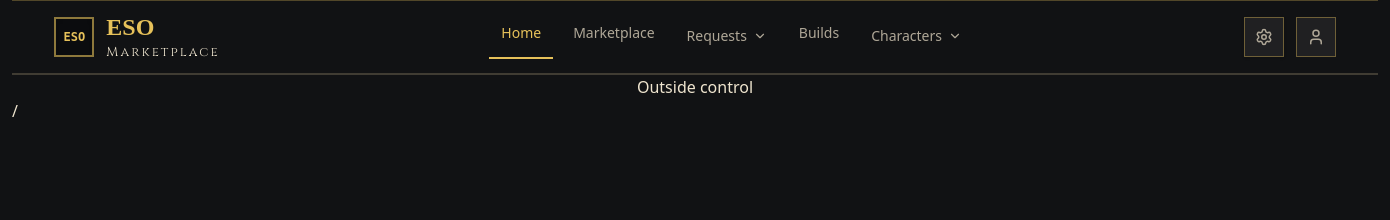
Scenario: navigation and product identity › retains hover-open after the first pointer click, supports Escape, and closes after navigation
Step 1. Hover over the button "Requests" → (727, 37), box [675, 15, 779, 59]
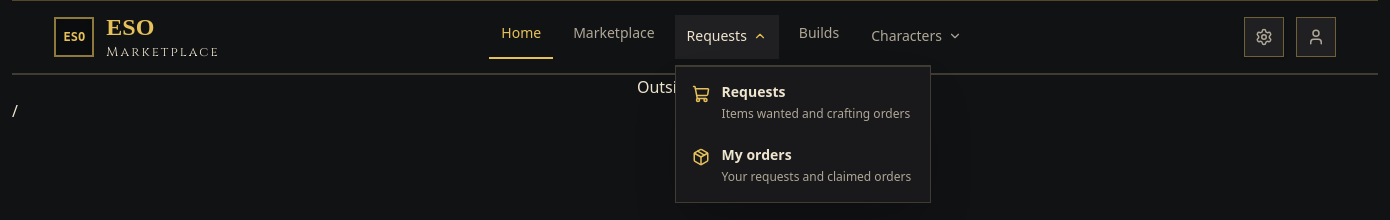
Expected: the button "Requests" is expanded
Step 2. Click the button "Requests" → (727, 37), box [675, 15, 779, 59]
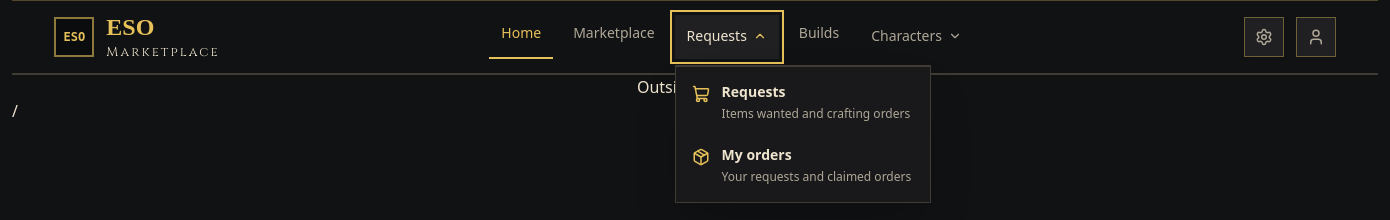
Expected: the button "Requests" is expanded, [675, 15, 779, 59]
Step 3. Press Escape
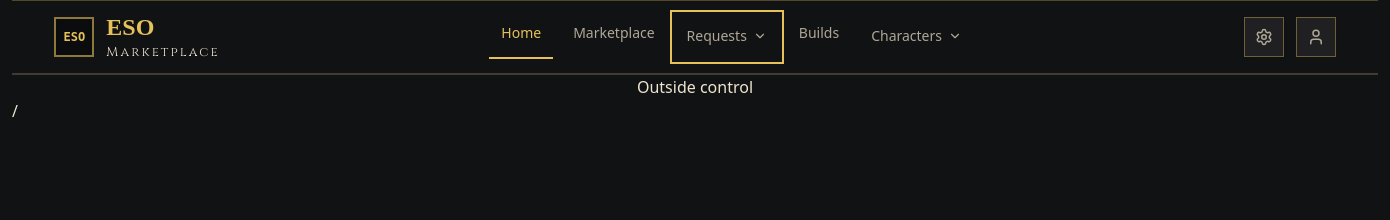
Expected: the button "Requests" is collapsed, [675, 15, 779, 59]
Step 4. Press Enter
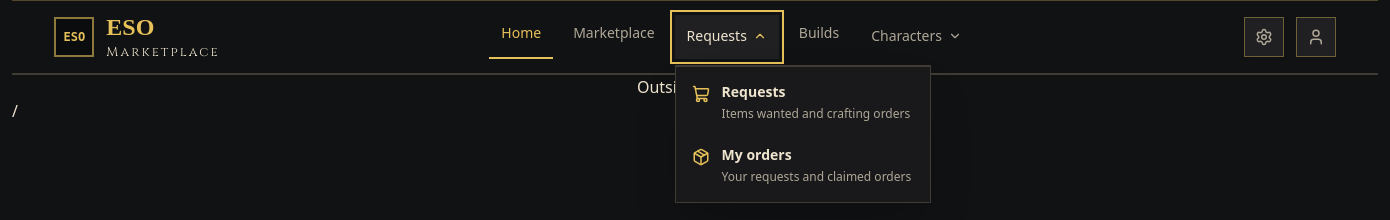
Step 5. Click the link "My orders Your requests and claimed orders" → (803, 166), box [682, 136, 924, 196]
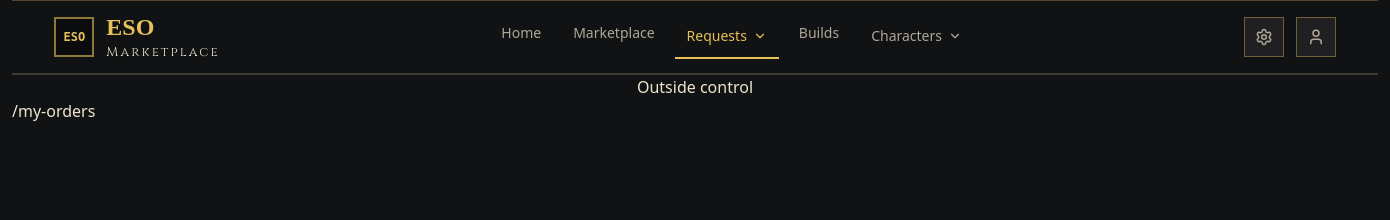
Expected: the text named "Current destination" reads "/my-orders", [12, 100, 95, 122]
Expected: the button "Requests" is collapsed, [675, 15, 779, 59]
